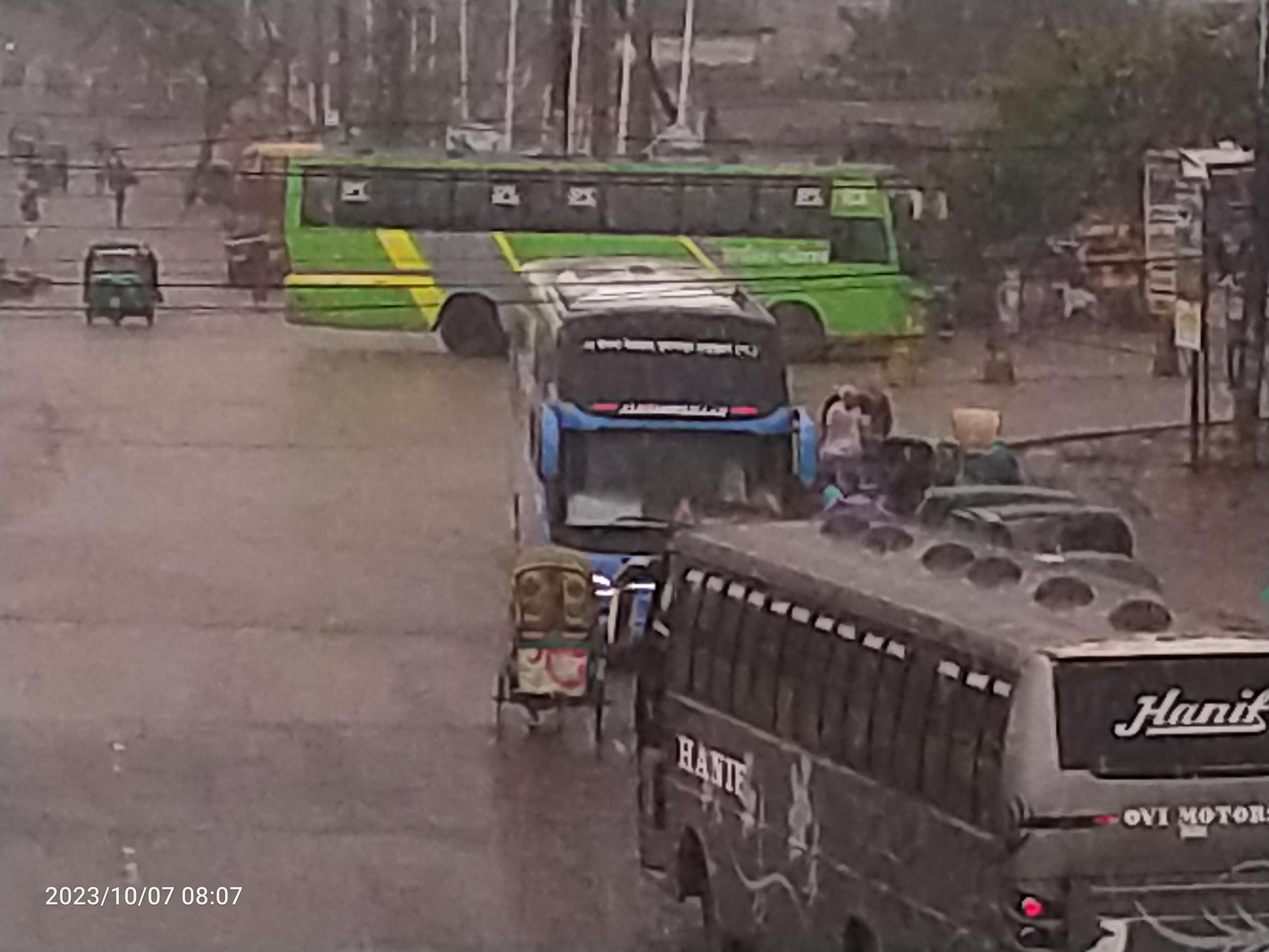Bus: (613, 491, 1269, 952), (261, 116, 955, 368), (473, 232, 826, 628), (1121, 116, 1269, 344)
Car: (477, 527, 636, 758), (802, 361, 905, 506)
